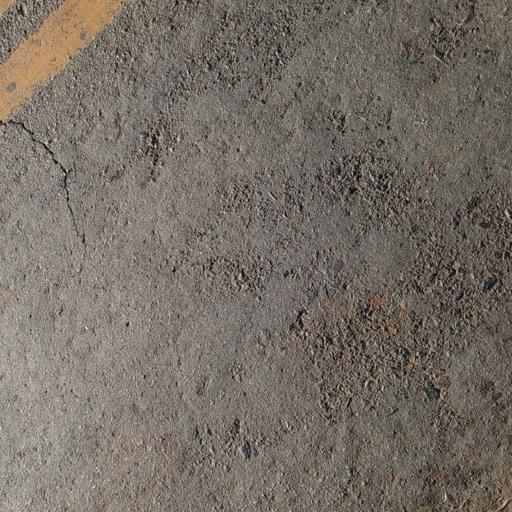GRIETA: (0, 120, 85, 246)
